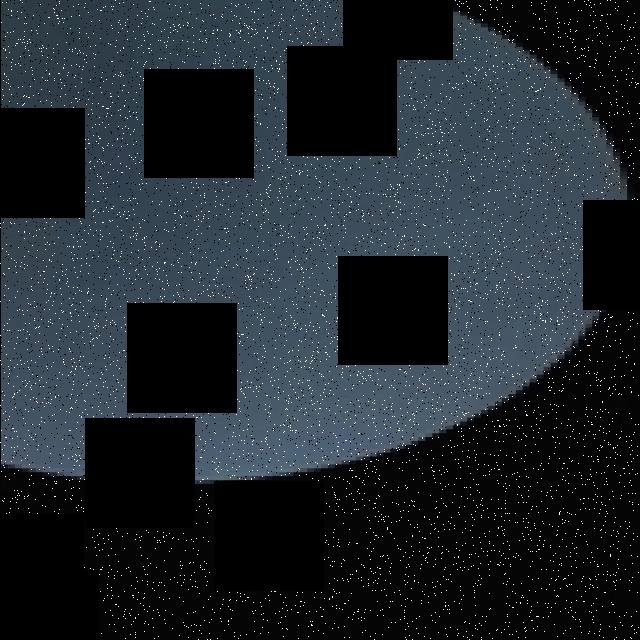Uranus: (0, 0, 626, 488)
